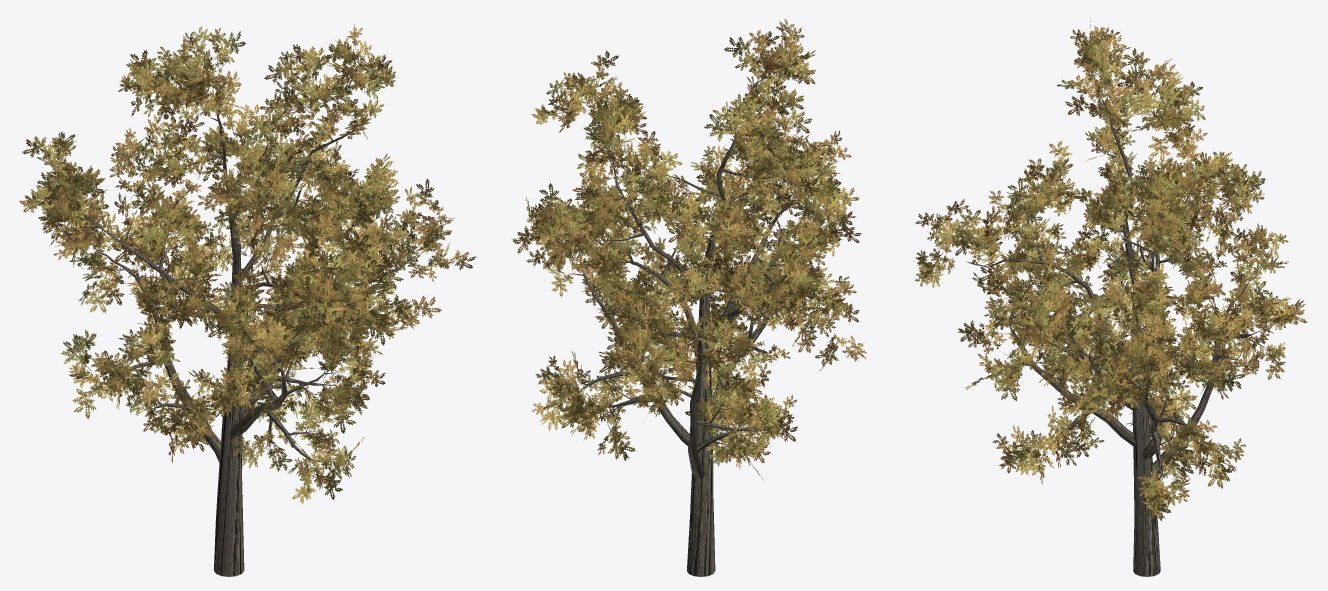
3 views of the same model, side by side, from view 1: azimuth 30°, elevation 25°; view 2: azimuth 150°, elevation 25°; view 3: azimuth 270°, elevation 25° (orthographic). The views are drawn at different scales.
Visible parts, largest first — view 1: Tree; view 2: Tree; view 3: Tree.
Part boxes in pixels (box(x1,y1,x2,y2)): Tree: box(19, 24, 476, 576); Tree: box(511, 19, 866, 576); Tree: box(915, 20, 1307, 576).
Size of the model in its own units: 61.7 by 84.41 by 58.92.
2 materials, 2 textured.
